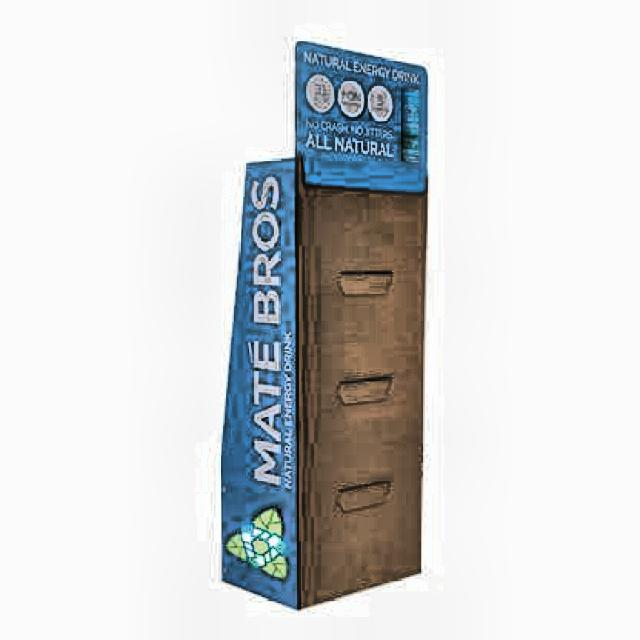Cardbox: (281, 23, 441, 639)
